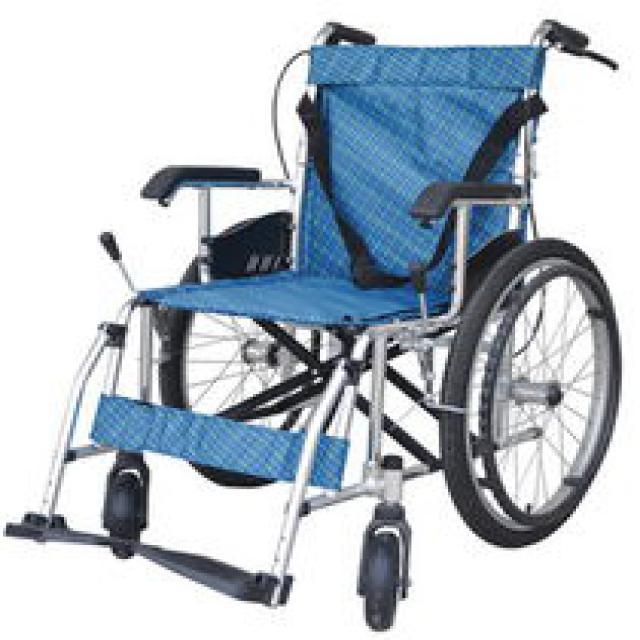wheelchair: (3, 14, 628, 637)
